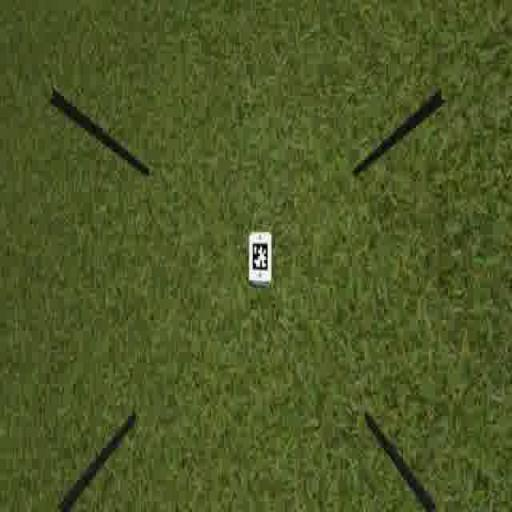UGV: (246, 230, 273, 287)
